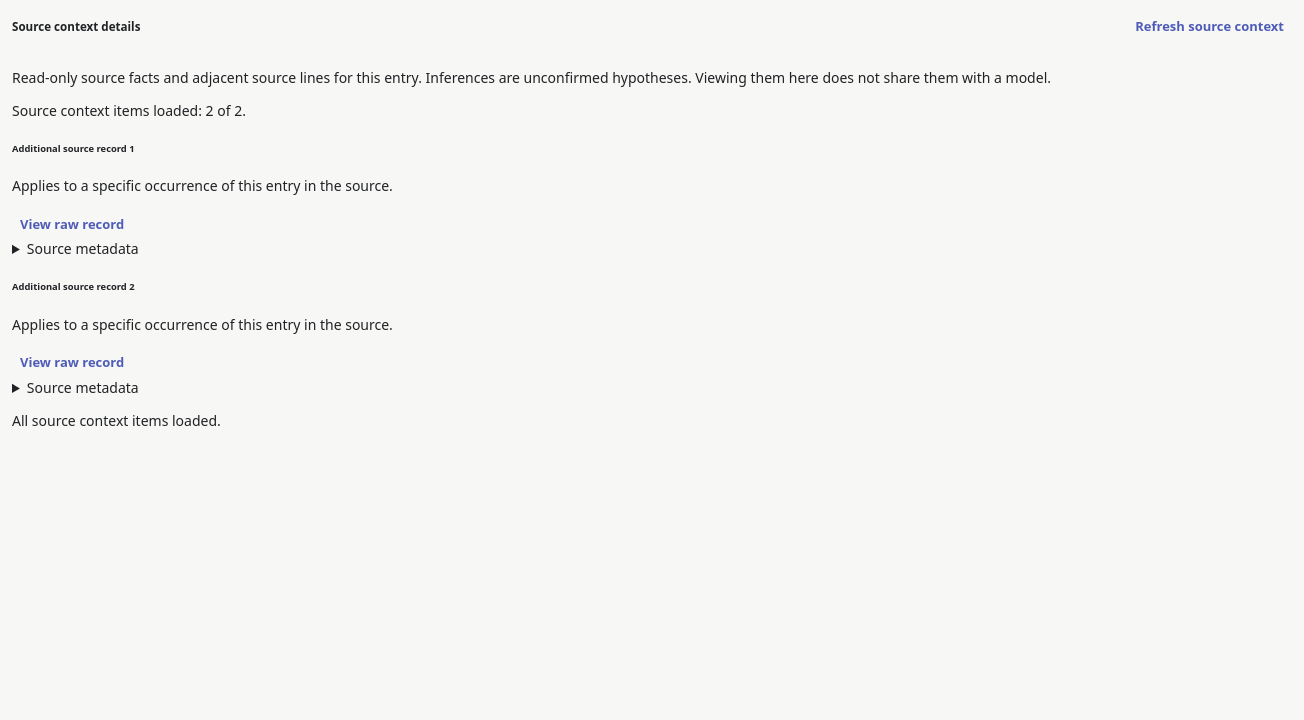
Test: retries a failed record independently at its exact basis and descriptor
Expected: the heading "Additional source record 1" is shown, [12, 142, 135, 155]
Click the button "View raw record" below "Additional source record 1" at (72, 224), box [12, 210, 132, 240]
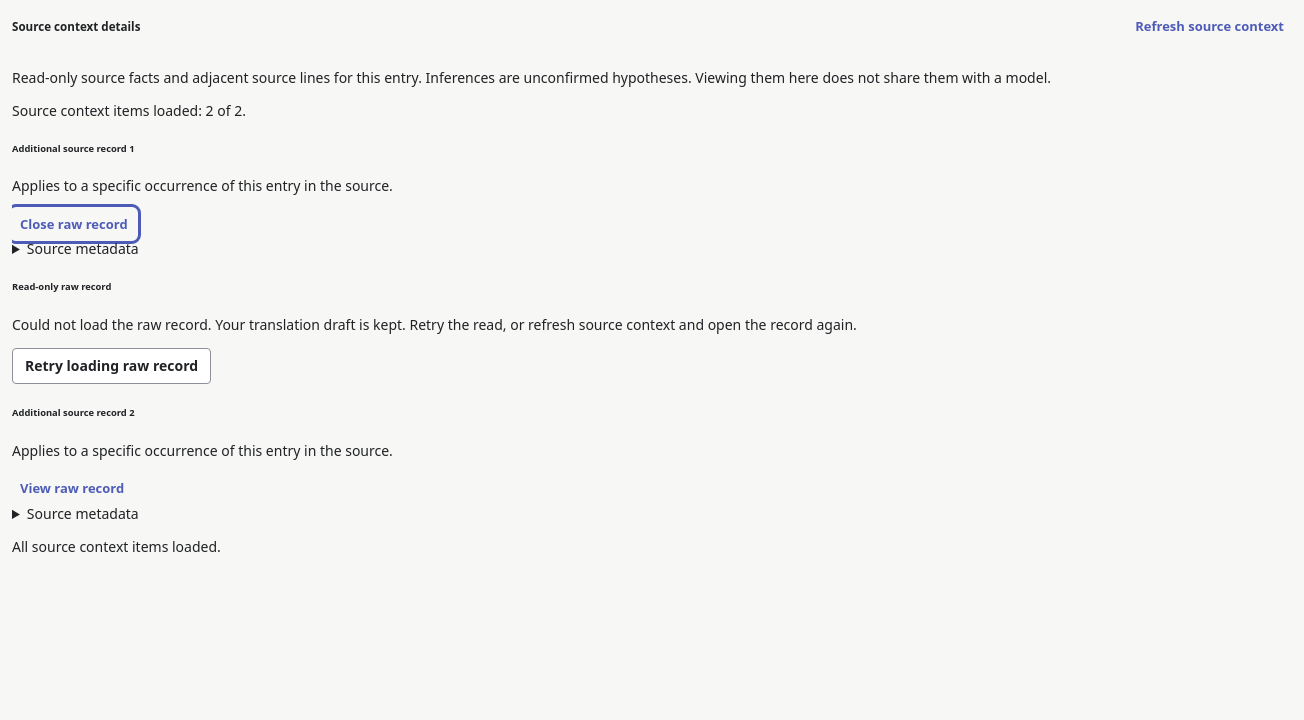
Result: the text "Could not load the raw record" is shown at [12, 315, 857, 334]
Click the button "View raw record" at (72, 489), box [12, 474, 132, 504]
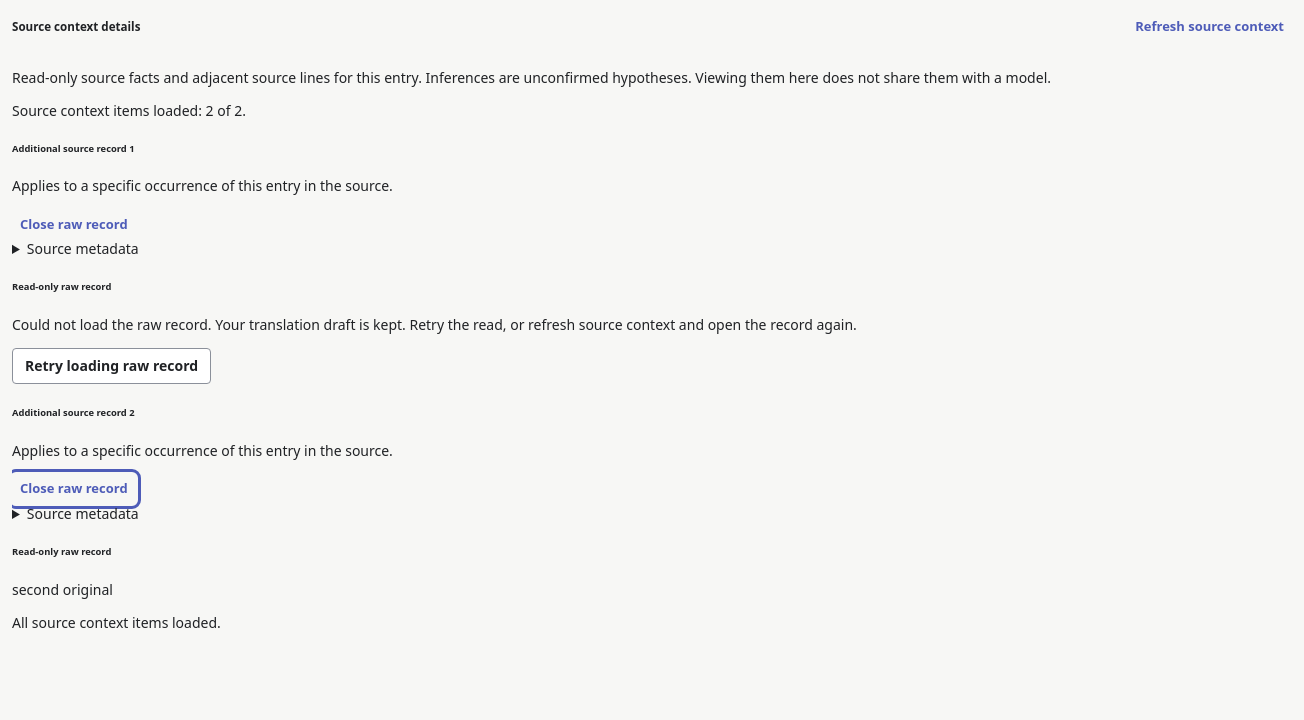
Result: the text "second original" is shown at [12, 580, 113, 598]
Click the button "Retry loading raw record" at (112, 366), box [12, 348, 211, 384]
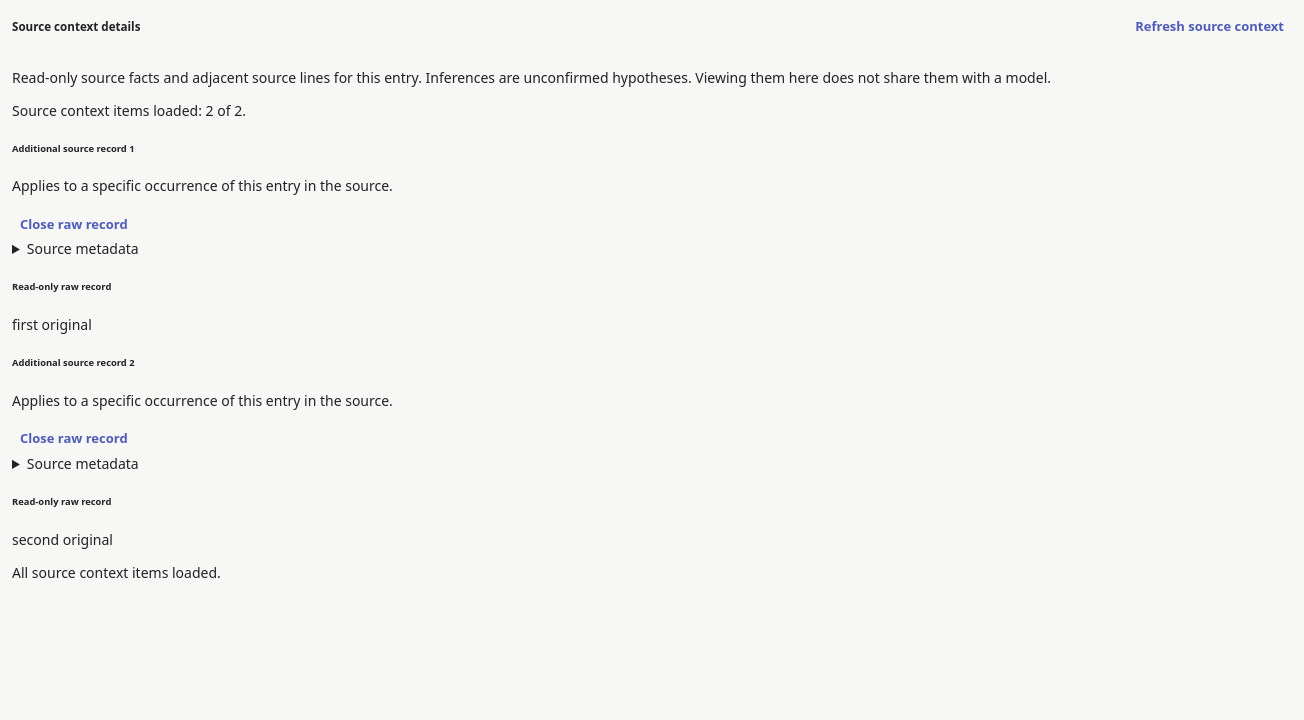
Result: the text "second original" is shown at [12, 530, 113, 548]
Result: the text "first original" is shown at [12, 315, 92, 334]
